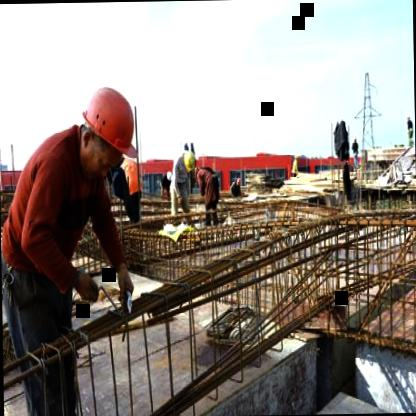helmet: (72, 74, 146, 178), (182, 150, 196, 176)
